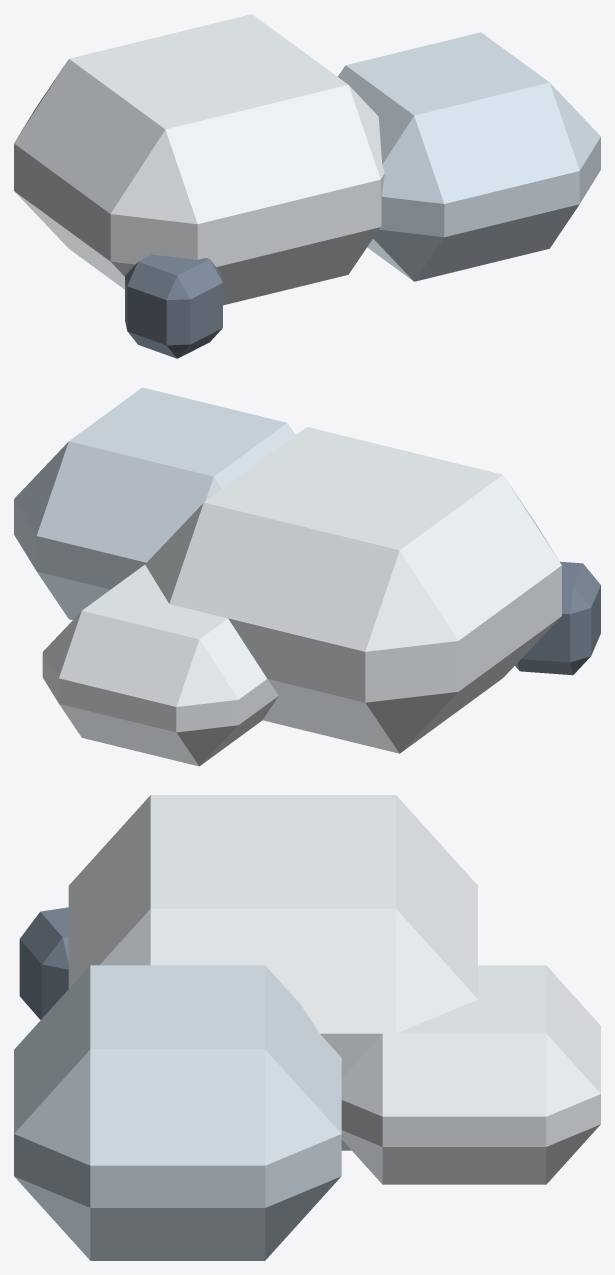
Rendered from env_r2_snow_mound.glb.
3 views of the same model, one above another, from view 1: azimuth 30°, elevation 25°; view 2: azimuth 150°, elevation 25°; view 3: azimuth 270°, elevation 25° (orthographic). The views are drawn at different scales.
Parts seen in each view (by area): view 1: env_r2_snow_mound; view 2: env_r2_snow_mound; view 3: env_r2_snow_mound.
Part boxes in pixels (x1,y1,x2,y2): env_r2_snow_mound: [14, 14, 600, 358]; env_r2_snow_mound: [14, 387, 600, 766]; env_r2_snow_mound: [14, 795, 600, 1260].
Bounding box in the file's own units: 2.6 × 1 × 2.2.
Materials: 1 (1 with a texture image).
